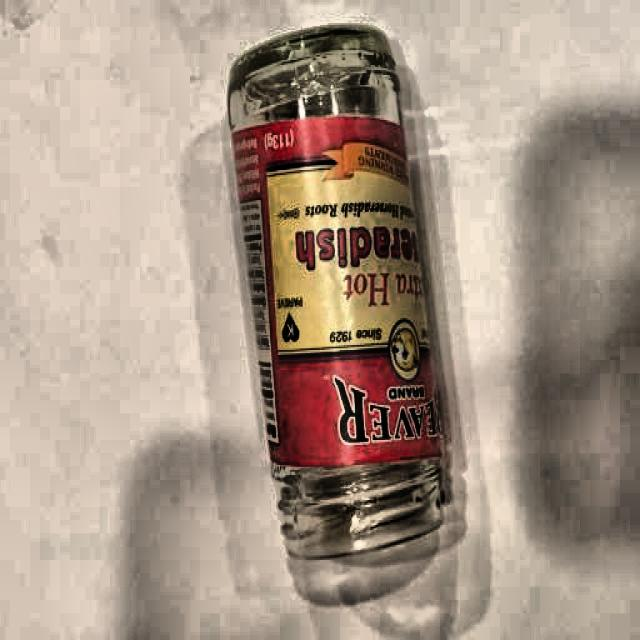glass: (227, 16, 454, 562)
